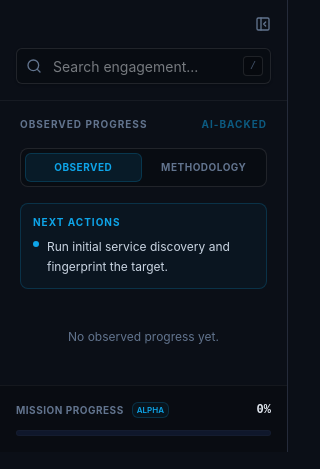
Test: Sidebar › can reveal the complete methodology on demand
Expected: the text "port scan" is not shown
Expected: the text "No observed progress yet." is shown, [68,329,219,344]
Click the button "Methodology".
click(204, 168)  # box [146,153,262,182]
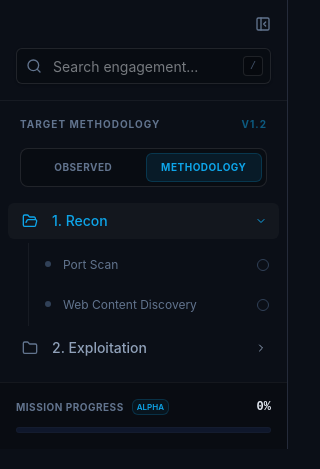
Now the text "Target Methodology" is shown, box [20,117,160,132]
Now the text "Port Scan" is shown, box [63,255,118,274]
Now the text "Web Content Discovery" is shown, box [63,294,197,314]
